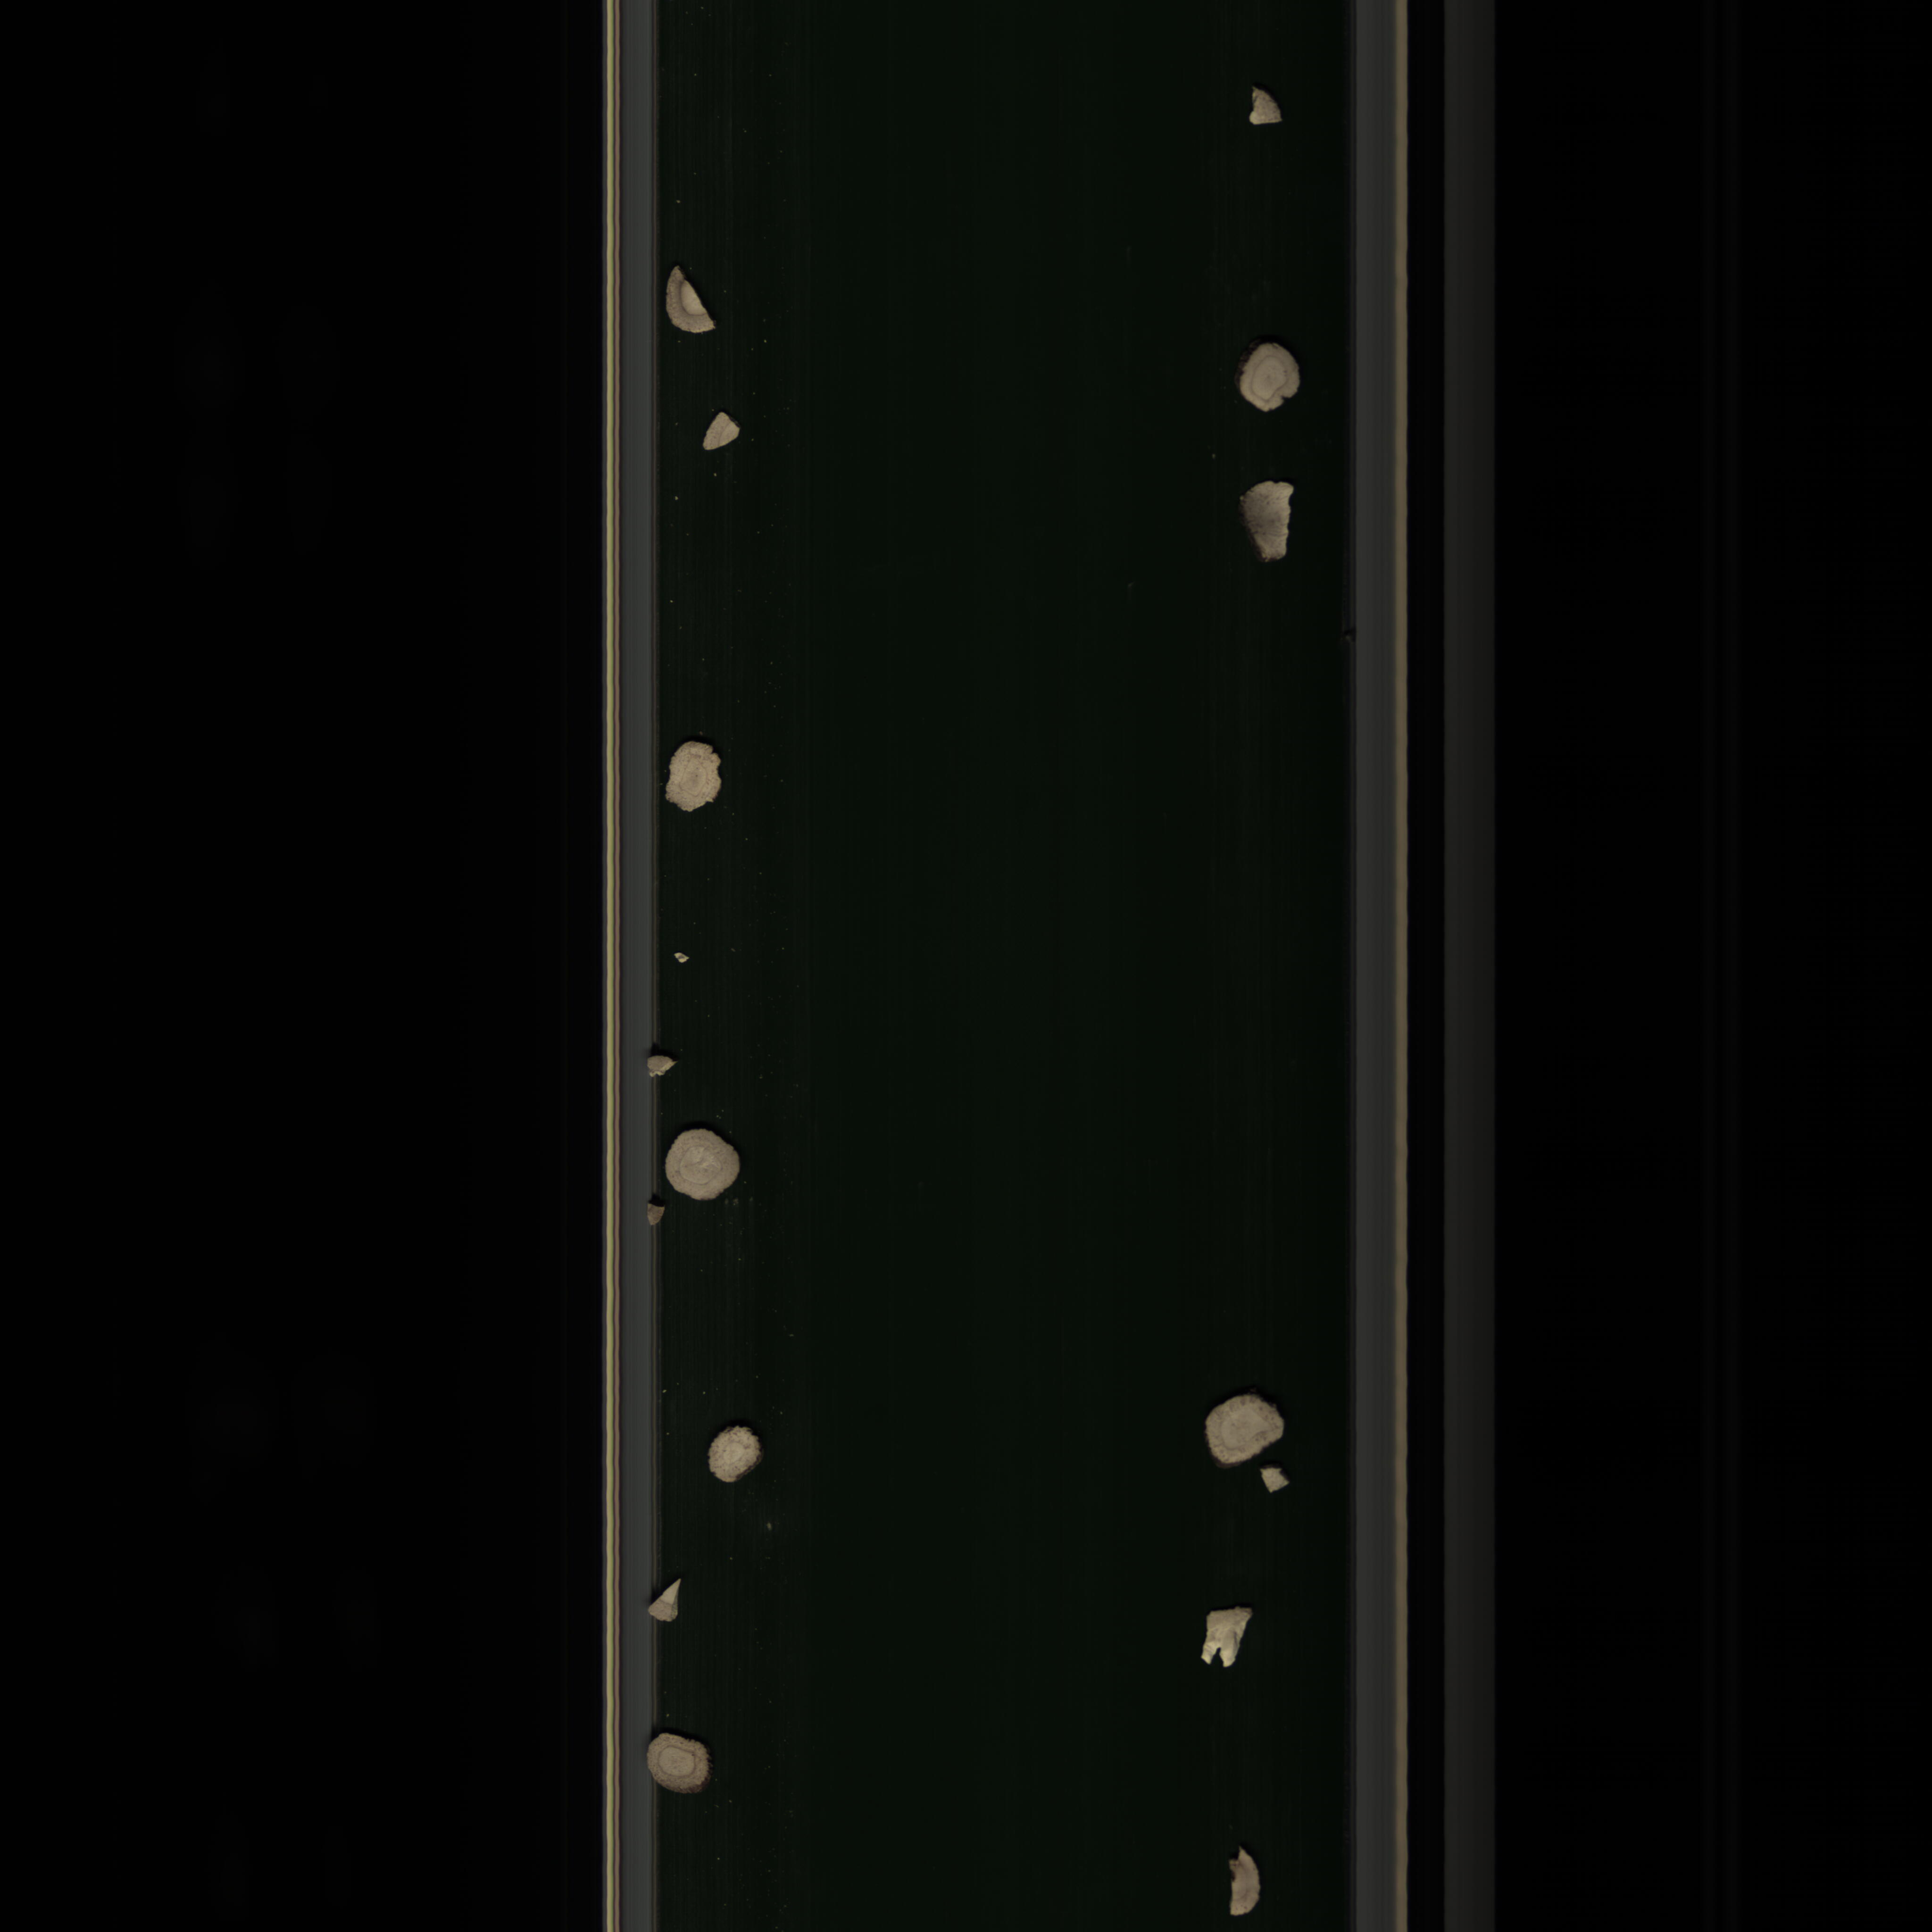debris: (1233, 474, 1302, 566), (663, 262, 727, 345), (1194, 1601, 1254, 1681), (1219, 1844, 1261, 1921), (639, 1573, 686, 1628), (697, 407, 748, 449), (637, 1047, 679, 1086), (1256, 1465, 1299, 1497)
